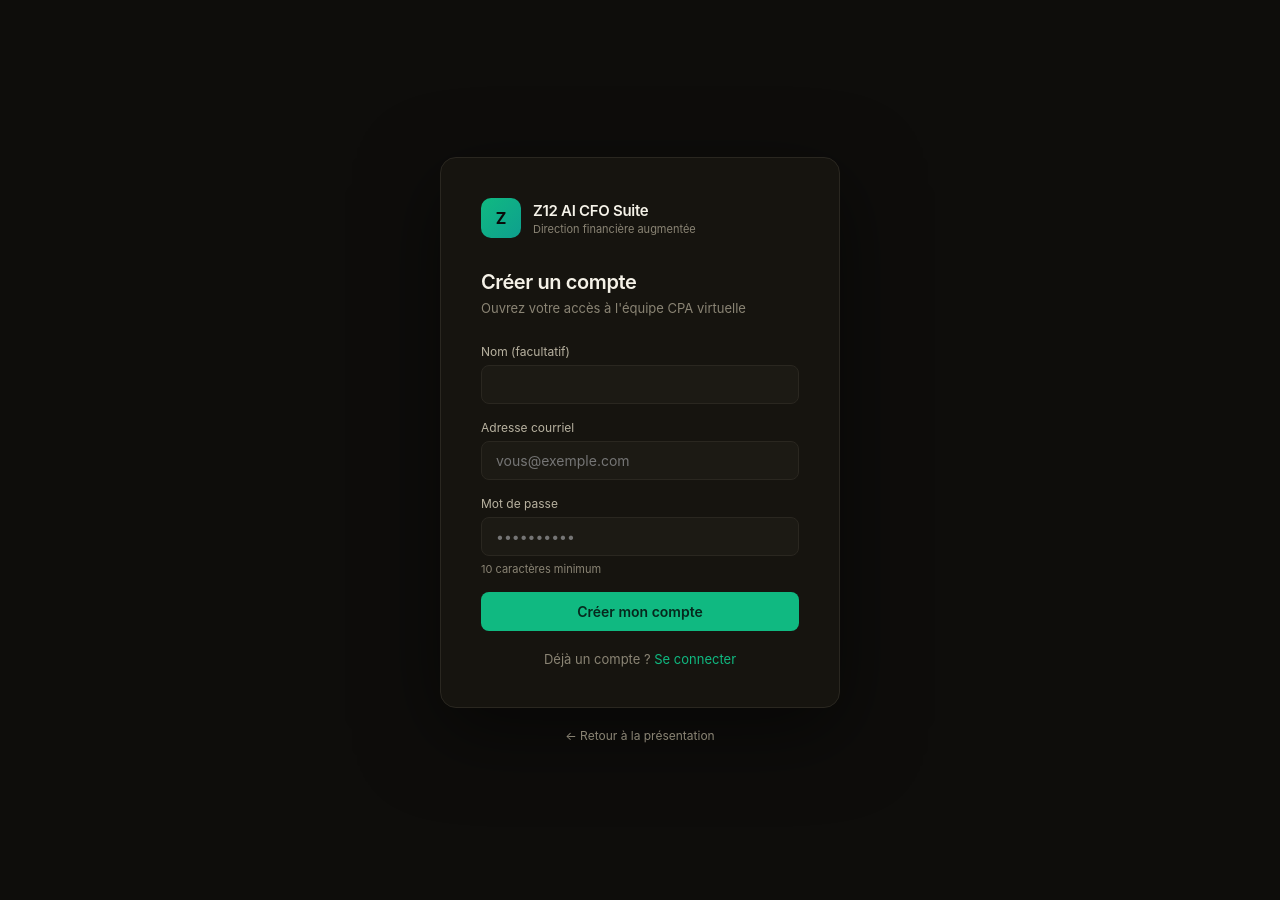
entry flow › asks for no code when the server allows open registration
This screenshot has width=1280, height=900.
Check: the heading "Créer un compte" is shown, box [481,270,636,294]
Step 1. Type "libre@exemple.ca" into the field labelled "Adresse courriel" → (640, 460), box [481,441,799,480]
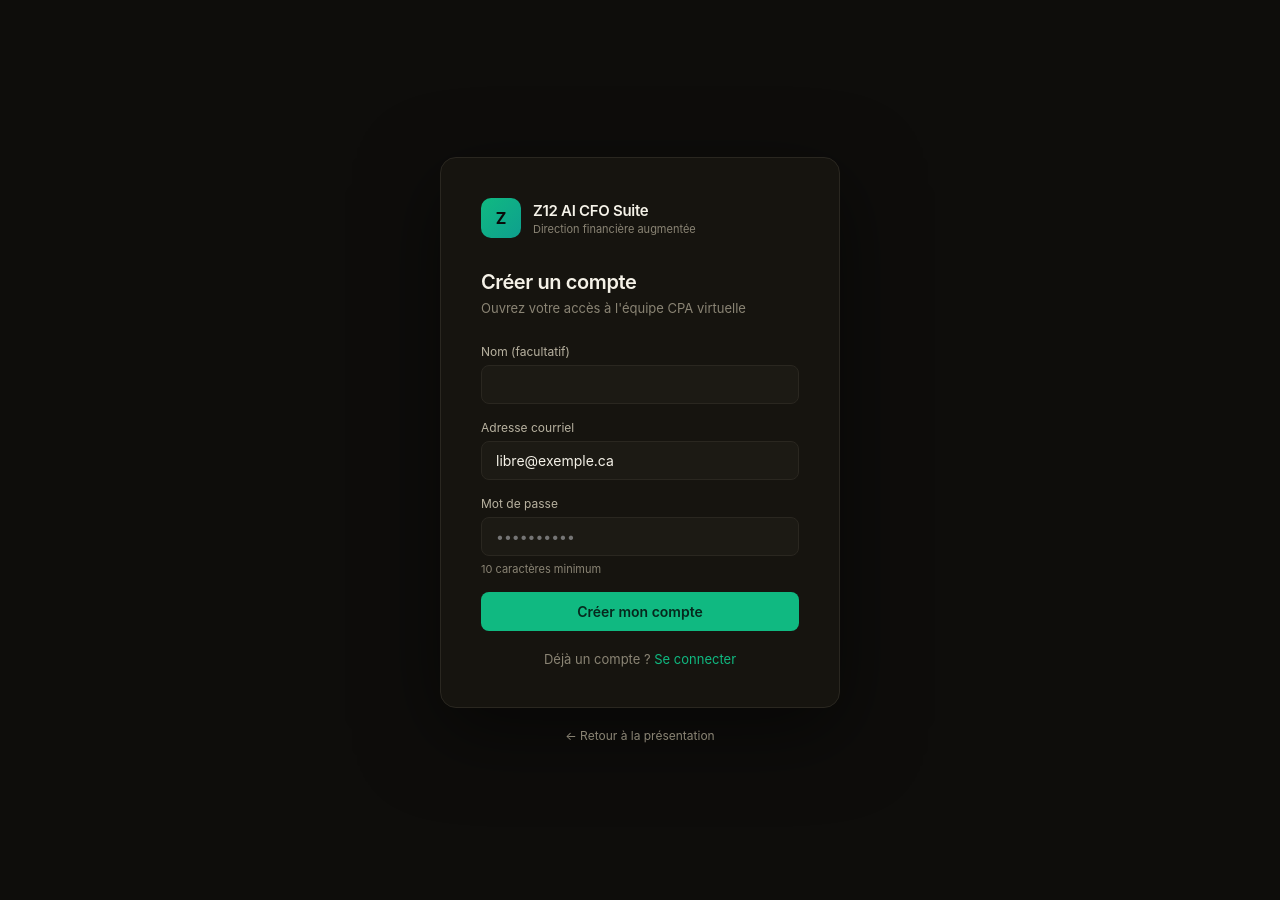
Step 2. Type "motdepasse-solide" into the password field labelled "Mot de passe" → (640, 536), box [481,517,799,556]
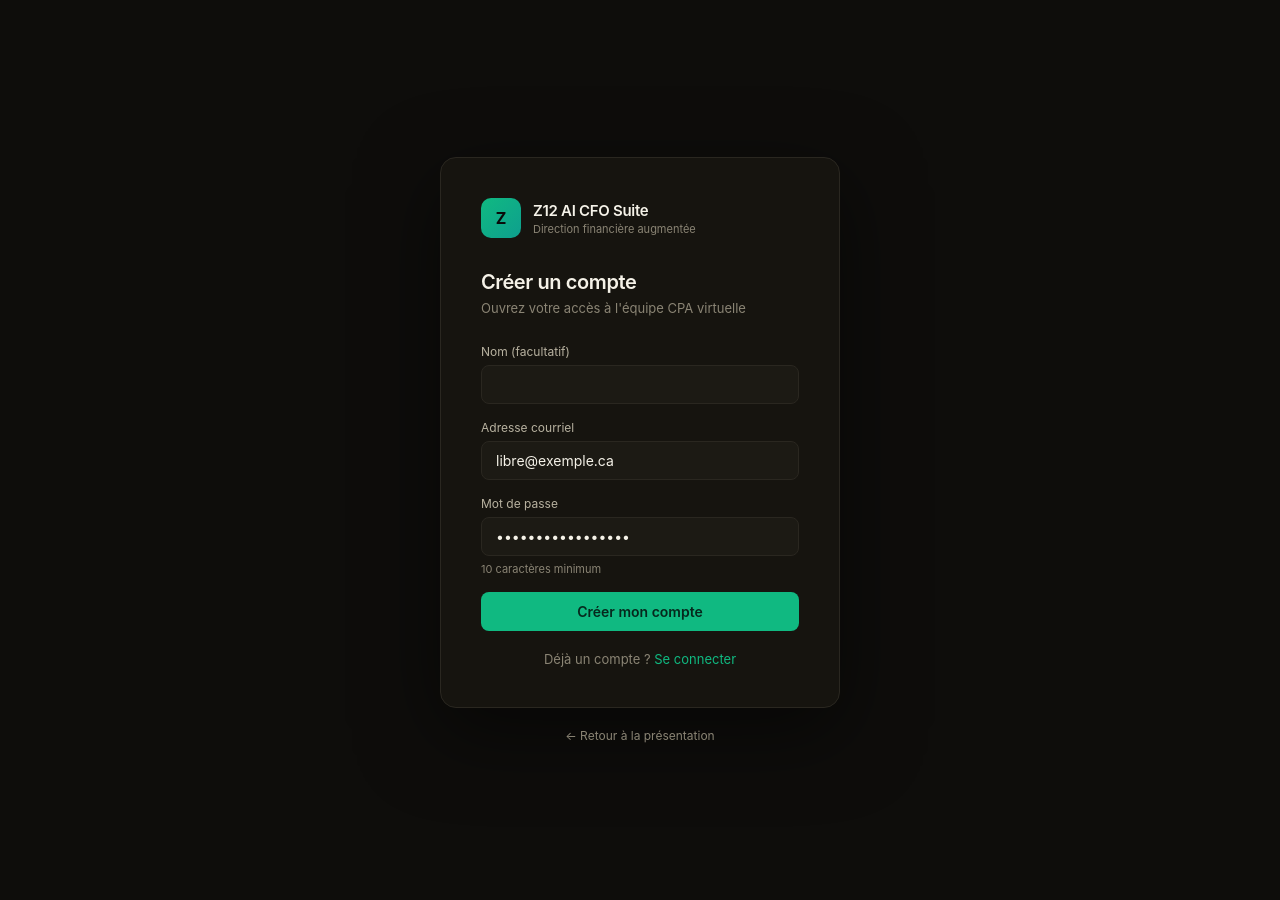
Step 3. Click the button "Créer mon compte" → (640, 612), box [481,592,799,631]
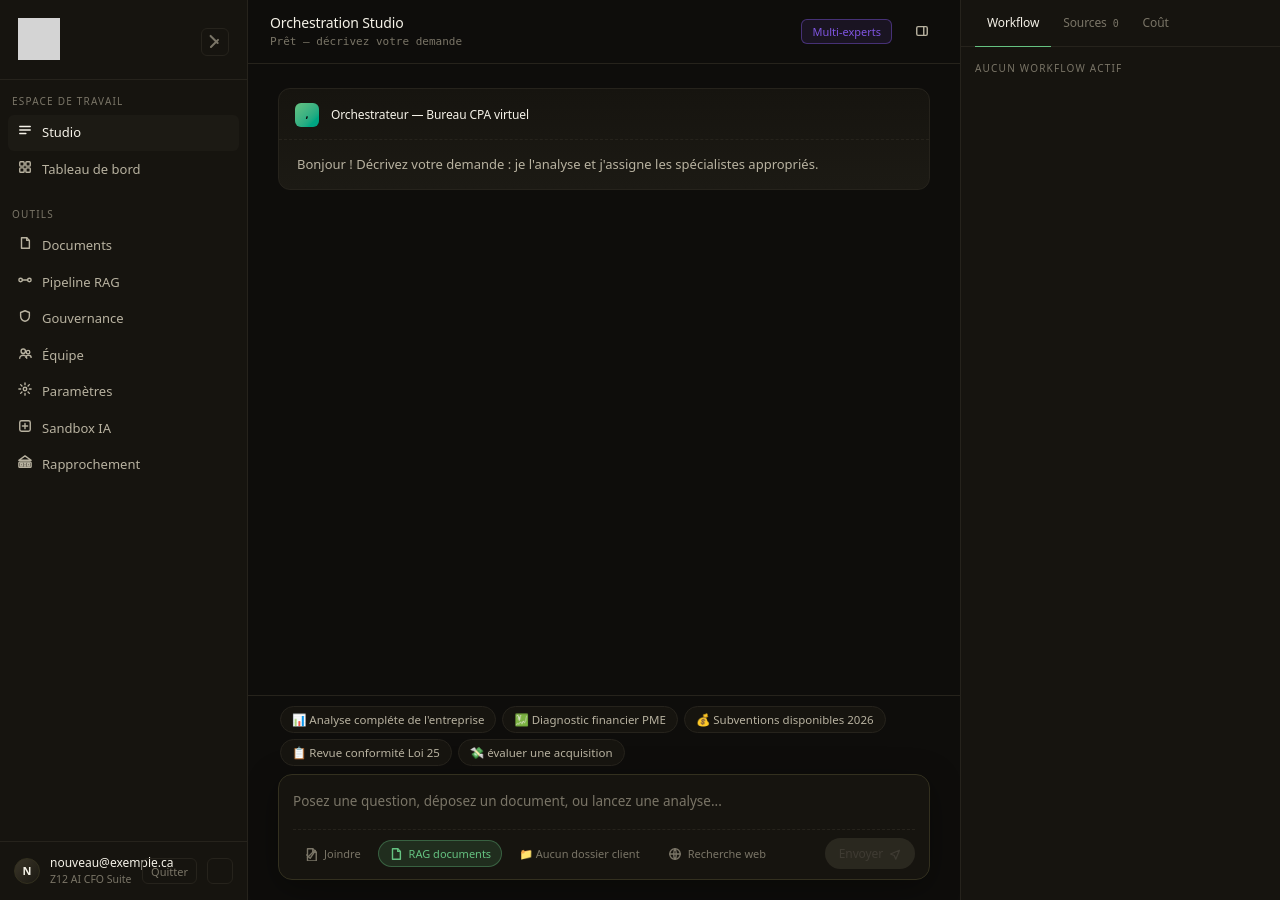
Check: the element with class "roster-foot" is shown, box [0,841,247,899]
